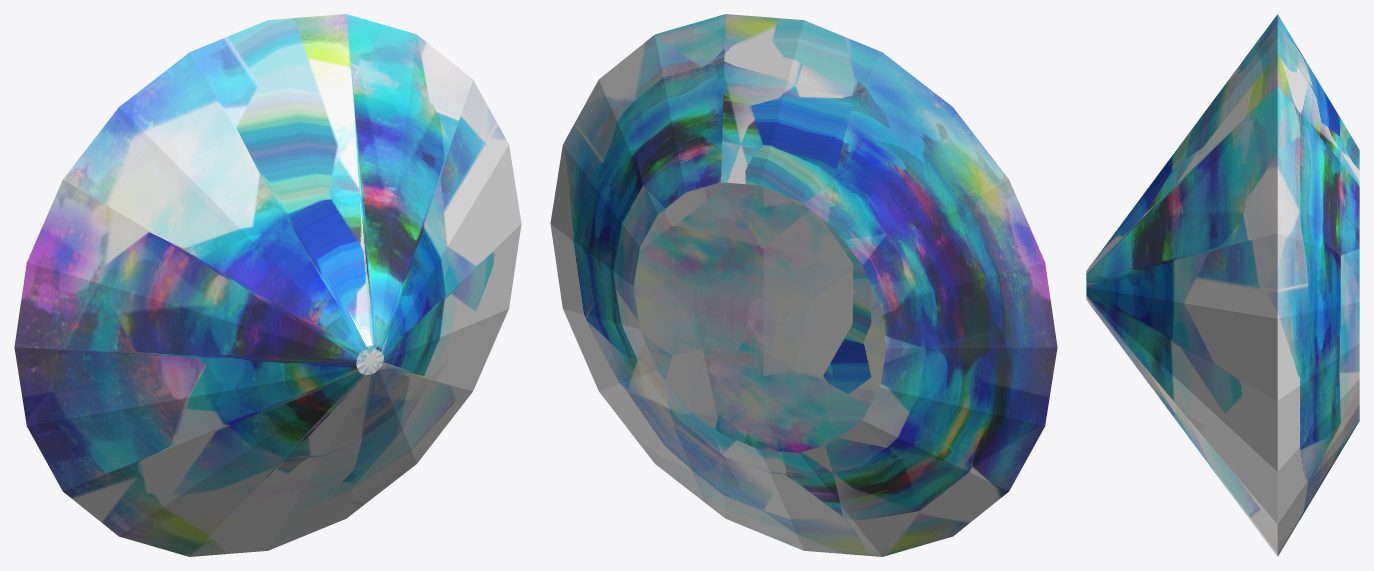
The model's file is Jewelry Type 4.glb.
The picture shows the model from 3 angles, left to right: view 1: azimuth 30°, elevation 25°; view 2: azimuth 150°, elevation 25°; view 3: azimuth 270°, elevation 25°; orthographic projection. The views are drawn at different scales.
Visible parts, largest first — view 1: Jewelry006_M_Jewelry001_0; view 2: Jewelry006_M_Jewelry001_0; view 3: Jewelry006_M_Jewelry001_0.
Part boxes in pixels (left/top/right/bottom): Jewelry006_M_Jewelry001_0: left=14, top=14, right=521, bottom=556; Jewelry006_M_Jewelry001_0: left=550, top=14, right=1057, bottom=556; Jewelry006_M_Jewelry001_0: left=1086, top=14, right=1359, bottom=556.
Size of the model in its own units: 1.27 by 1.27 by 0.6368.
Materials: 1 (1 with a texture image).
